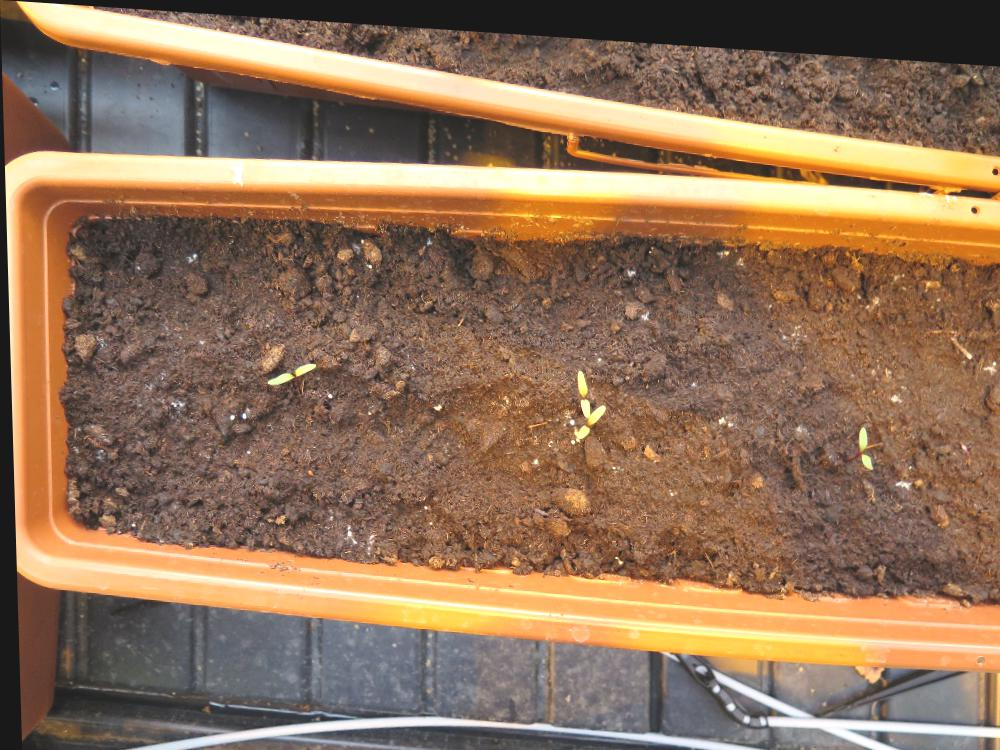crop: (262, 353, 315, 384), (854, 412, 871, 458)
